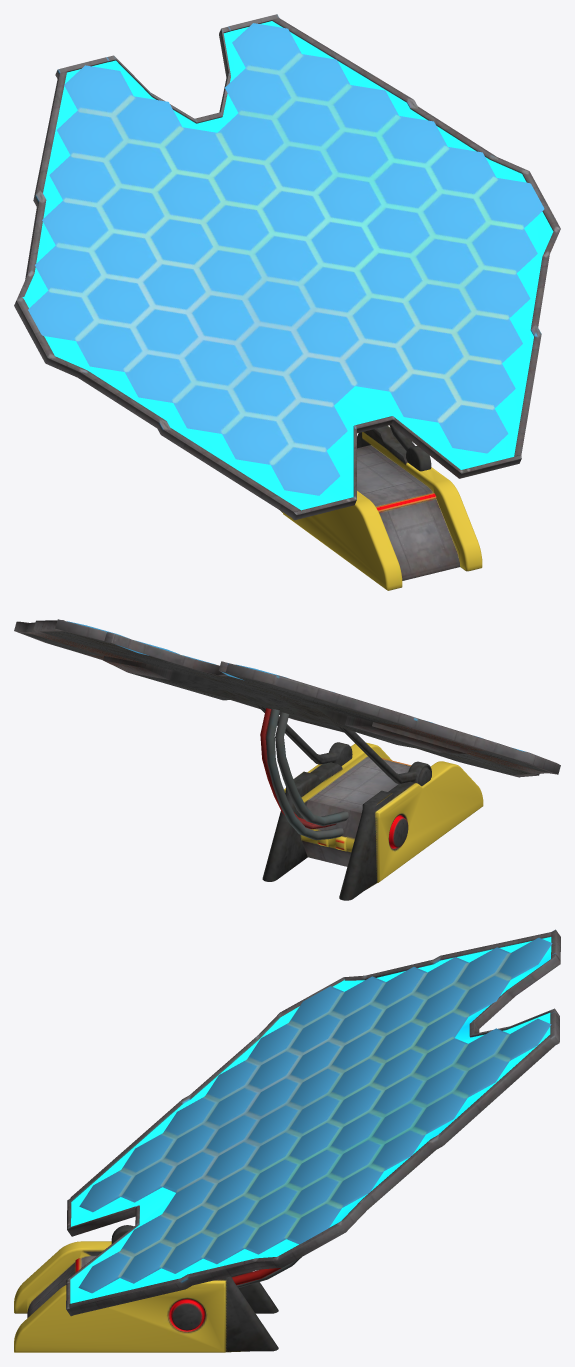
The model's file is SolarPanel.glb.
3 views of the same model, one above another, from view 1: azimuth 30°, elevation 25°; view 2: azimuth 150°, elevation 25°; view 3: azimuth 270°, elevation 25° (orthographic).
Parts seen in each view (by area): view 1: SolarPanel_Baked; view 2: SolarPanel_Baked; view 3: SolarPanel_Baked.
Boxes of the visible parts, x1,y1,x2,y2 form: SolarPanel_Baked: (14,14,560,590); SolarPanel_Baked: (14,619,560,900); SolarPanel_Baked: (14,929,560,1352).
Bounding box in the file's own units: 11.49 × 7.36 × 10.49.
2 materials, 1 textured.
